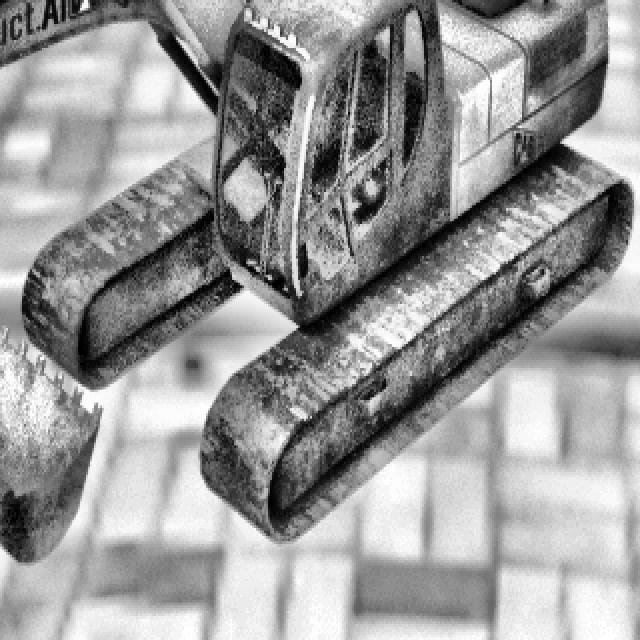excavator: (0, 0, 636, 563)
